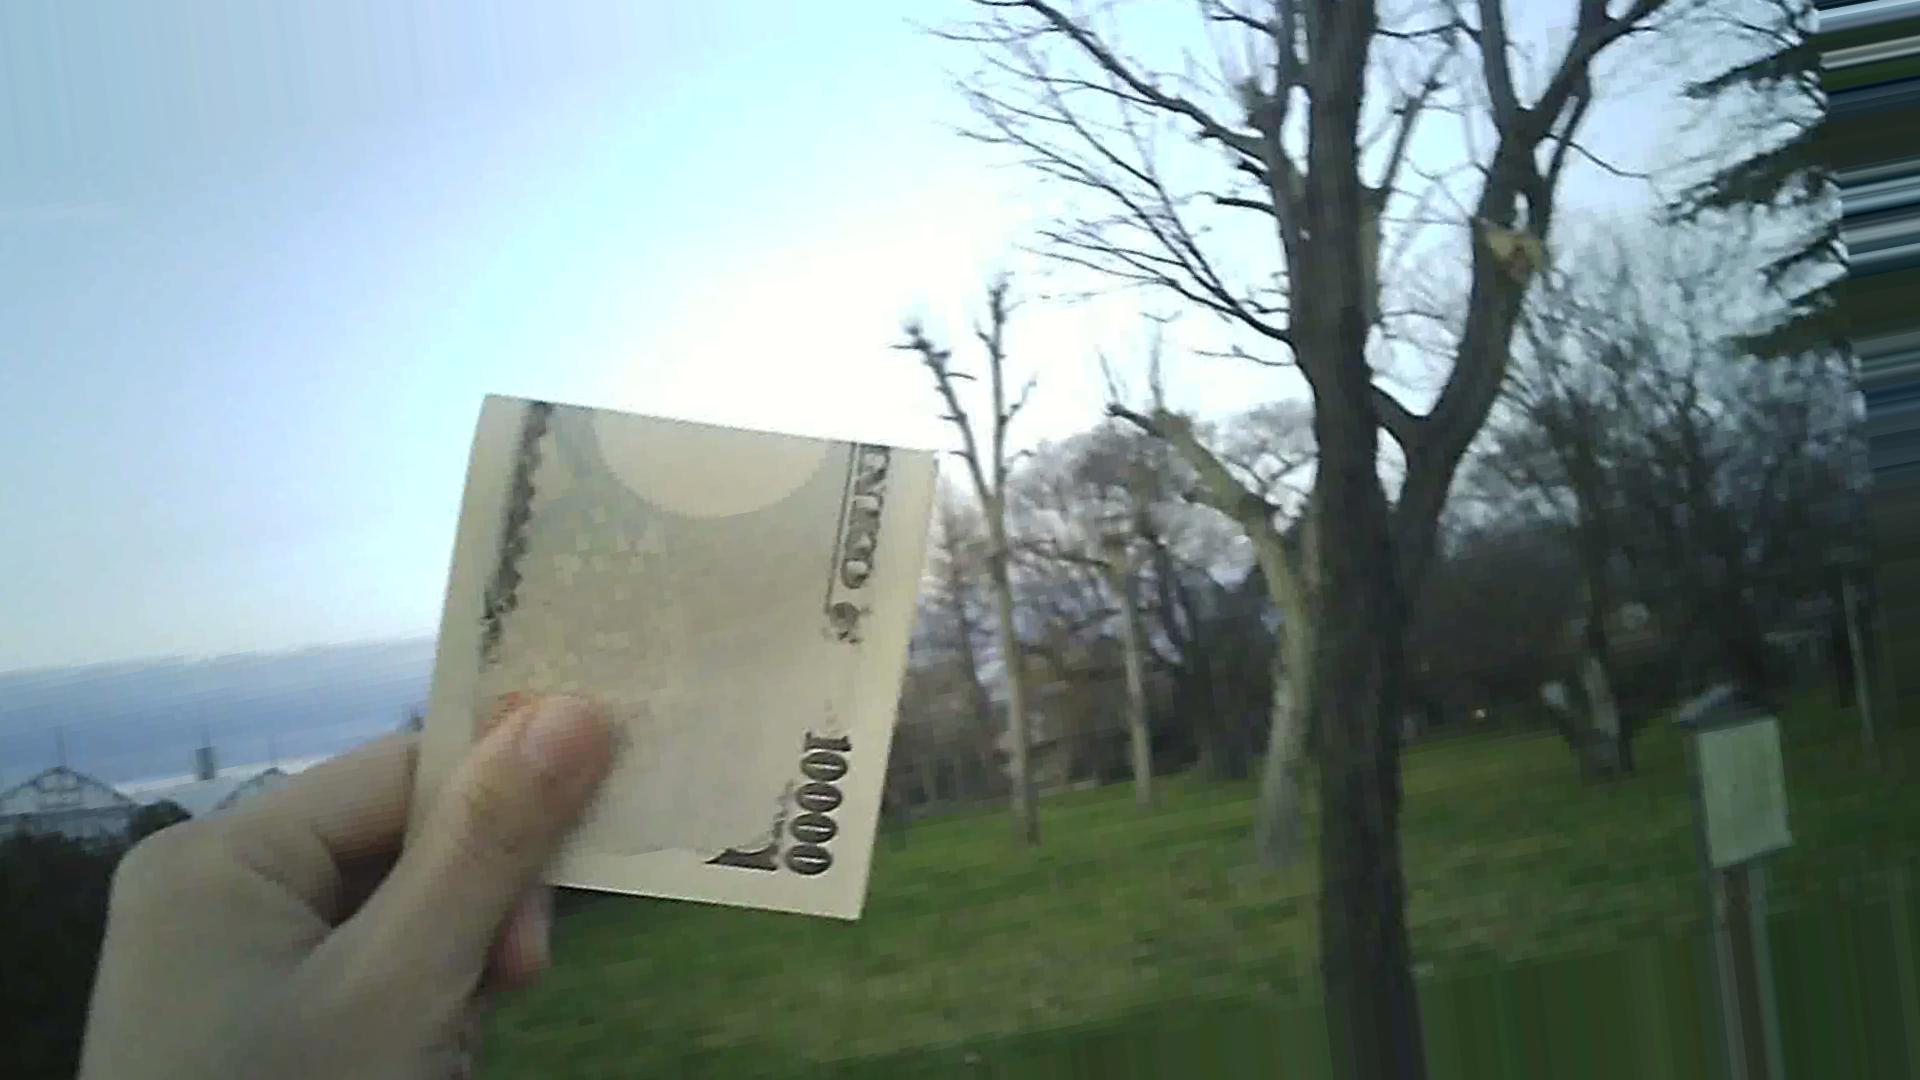10,000 Yen: (407, 373, 957, 943)
